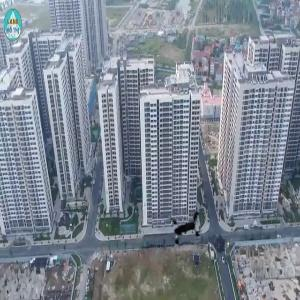drone: (154, 196, 213, 255)
